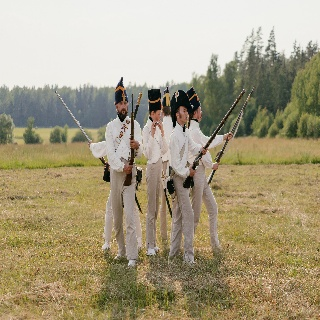rifle: (183, 88, 245, 188), (54, 87, 112, 183), (208, 87, 259, 185), (122, 92, 137, 188)
